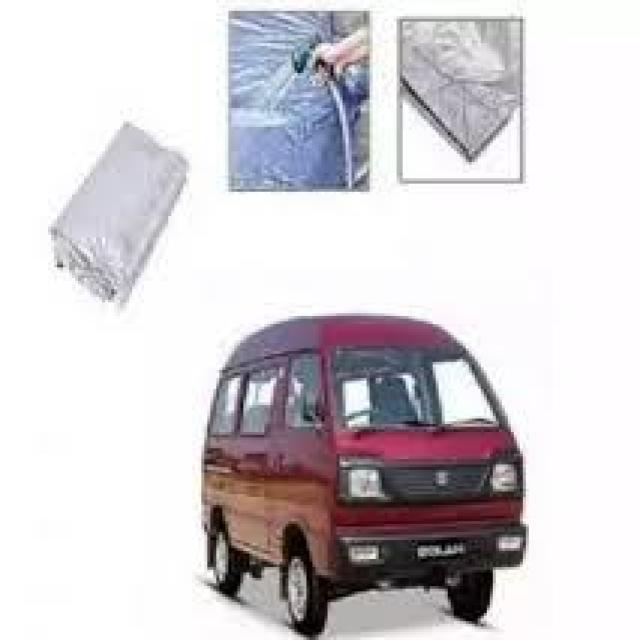van: (176, 280, 553, 640)
